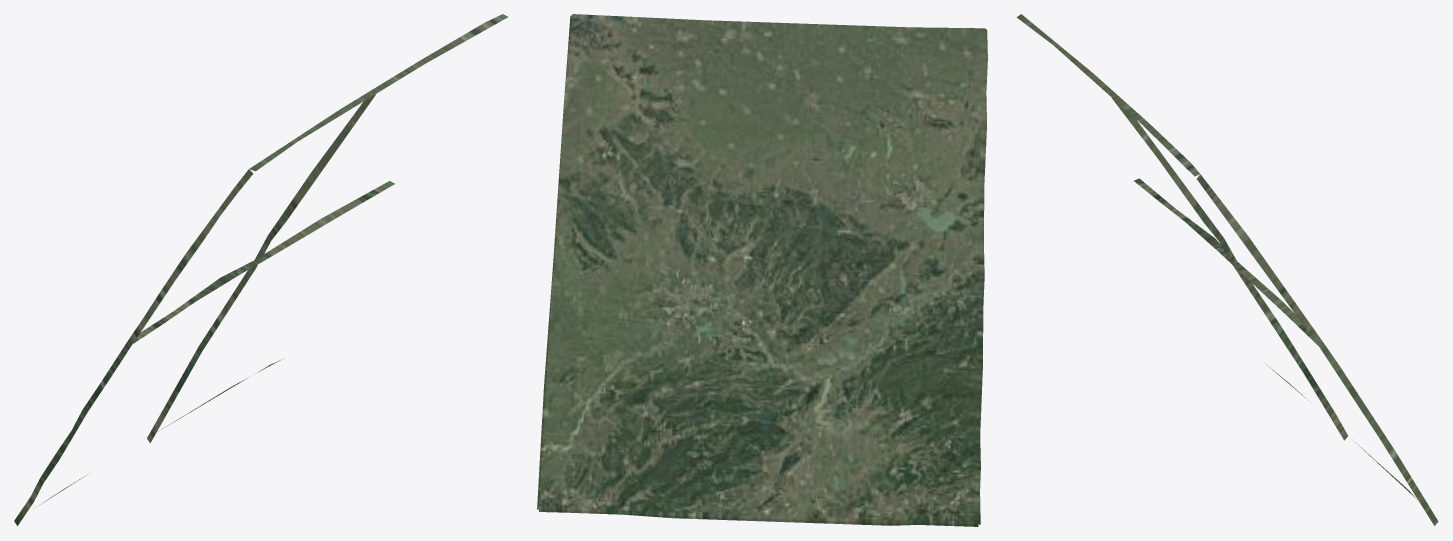
The picture shows the model from 3 angles, left to right: view 1: azimuth 30°, elevation 25°; view 2: azimuth 150°, elevation 25°; view 3: azimuth 270°, elevation 25°; orthographic projection. The views are drawn at different scales.
Size of the model in its own units: 630934 by 543967 by 527243.
Materials: 1 (1 with a texture image).
